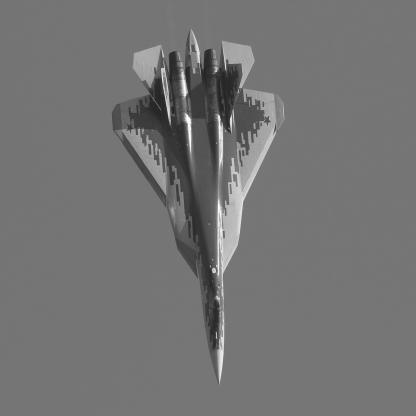Su57: (113, 29, 286, 387)
